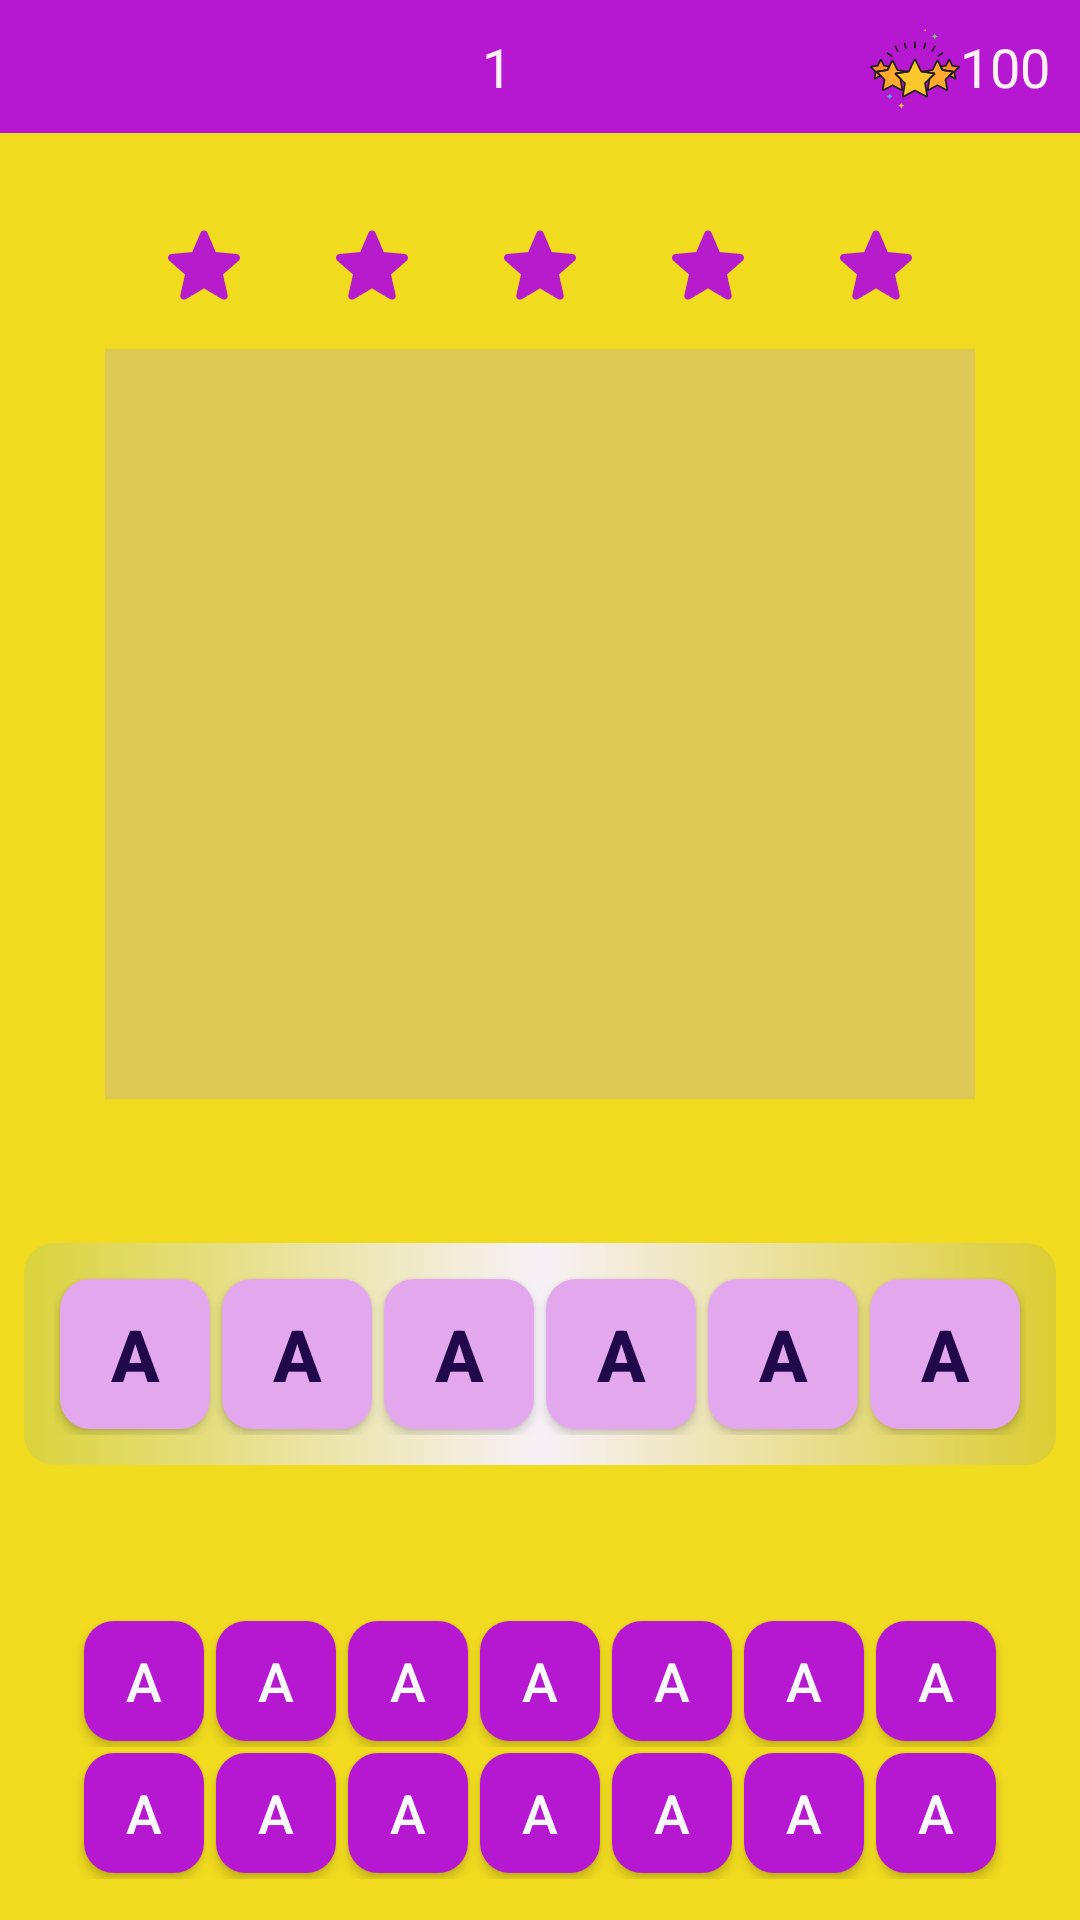

Icons on this 1080*1920 Android screen, each with the point to tap as (x=x, y=y):
star: (x=204, y=265), (x=372, y=265), (x=540, y=265), (x=708, y=265), (x=876, y=265)
